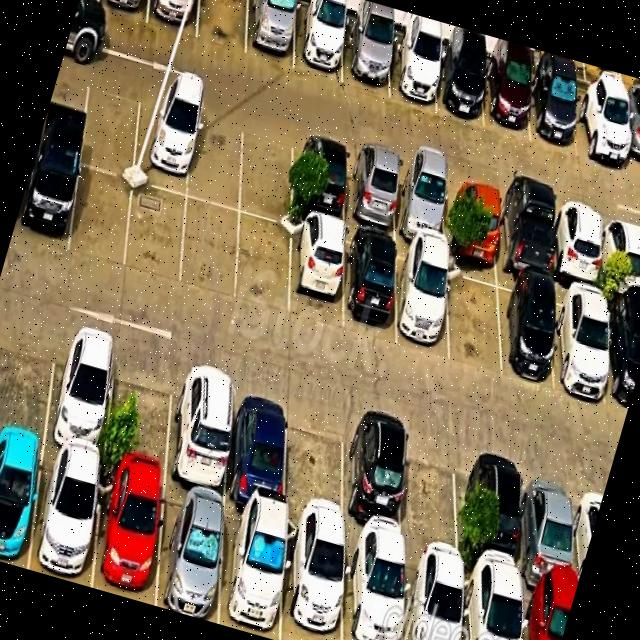empty: (105, 341, 175, 482), (285, 395, 345, 533), (405, 425, 462, 566), (0, 308, 58, 443), (69, 165, 133, 268), (79, 71, 141, 177), (125, 182, 186, 287), (447, 260, 501, 375), (186, 103, 243, 210), (180, 198, 239, 300), (239, 117, 293, 226), (235, 215, 290, 315), (196, 0, 248, 54)
occupied: (43, 323, 116, 463), (29, 448, 101, 587), (155, 484, 224, 624), (93, 466, 162, 605), (166, 359, 234, 499), (218, 502, 285, 640), (225, 376, 289, 513), (345, 410, 407, 549), (281, 519, 343, 640), (11, 147, 80, 253), (523, 457, 576, 594), (471, 443, 523, 581), (132, 87, 196, 195), (553, 284, 608, 402), (289, 215, 344, 329), (497, 273, 553, 384), (342, 229, 396, 341), (396, 244, 448, 360), (344, 538, 403, 640), (0, 437, 43, 569), (404, 551, 461, 640), (293, 132, 347, 224), (498, 187, 550, 281), (346, 145, 397, 236), (447, 173, 497, 265), (572, 82, 623, 170), (396, 158, 445, 247), (553, 201, 601, 290), (293, 1, 345, 83), (464, 567, 521, 640), (605, 297, 640, 414), (530, 67, 576, 156), (484, 55, 530, 141), (436, 45, 483, 126), (389, 31, 436, 111), (342, 19, 388, 95), (601, 213, 640, 300), (246, 0, 295, 69), (522, 582, 575, 640), (615, 93, 640, 175), (147, 0, 199, 37), (97, 0, 149, 23)
